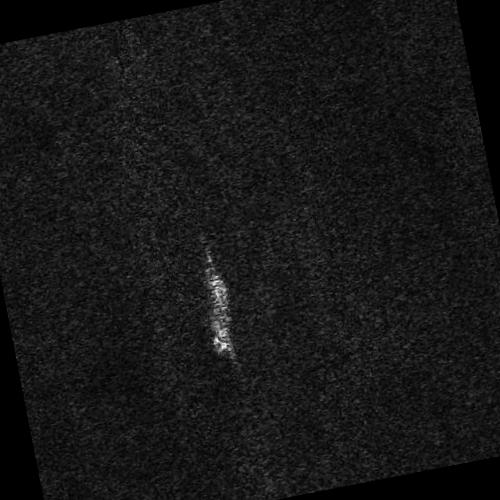ship: (206, 273, 234, 357)
